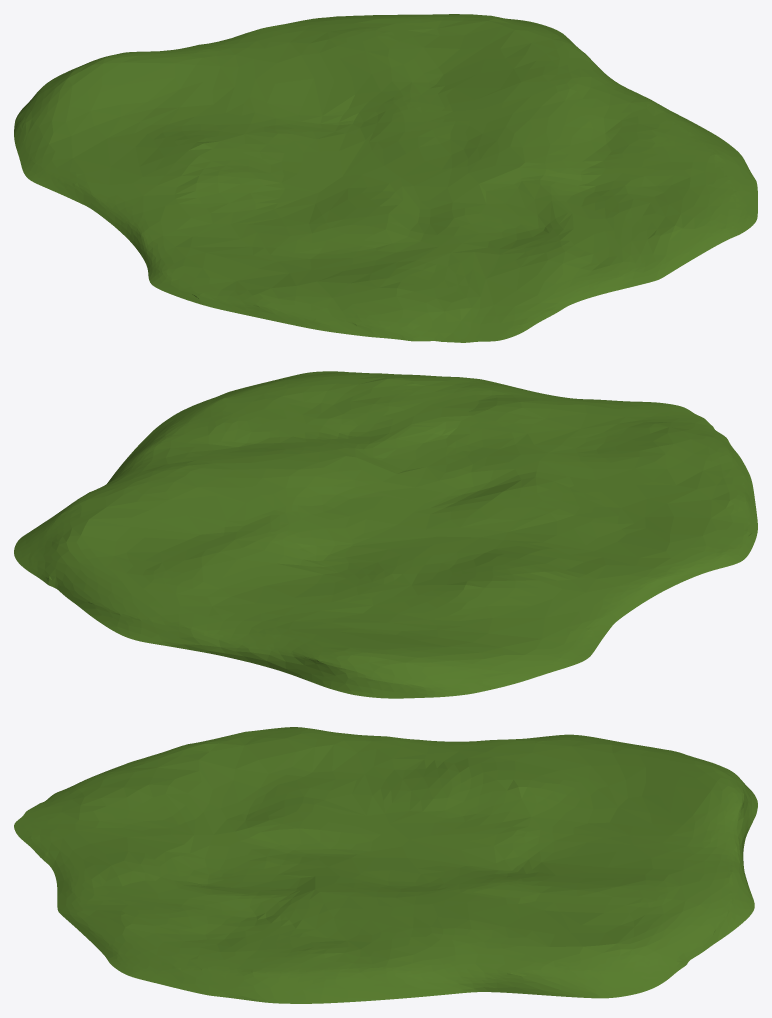
File: Cavern_FloorGrass_Plane_Lrg.fbx
The picture shows the model from 3 angles, top to bottom: view 1: azimuth 30°, elevation 25°; view 2: azimuth 150°, elevation 25°; view 3: azimuth 270°, elevation 25°; orthographic projection.
Visible parts, largest first — view 1: Cavern_FloorGrass_Plane_Lrg; view 2: Cavern_FloorGrass_Plane_Lrg; view 3: Cavern_FloorGrass_Plane_Lrg.
Boxes of the visible parts, <box> form: Cavern_FloorGrass_Plane_Lrg: <box>14,14,757,342</box>; Cavern_FloorGrass_Plane_Lrg: <box>14,371,757,698</box>; Cavern_FloorGrass_Plane_Lrg: <box>14,727,757,1003</box>.
Bounding box in the file's own units: 4959 × 231 × 5632.
Materials: 1 (1 with a texture image).
